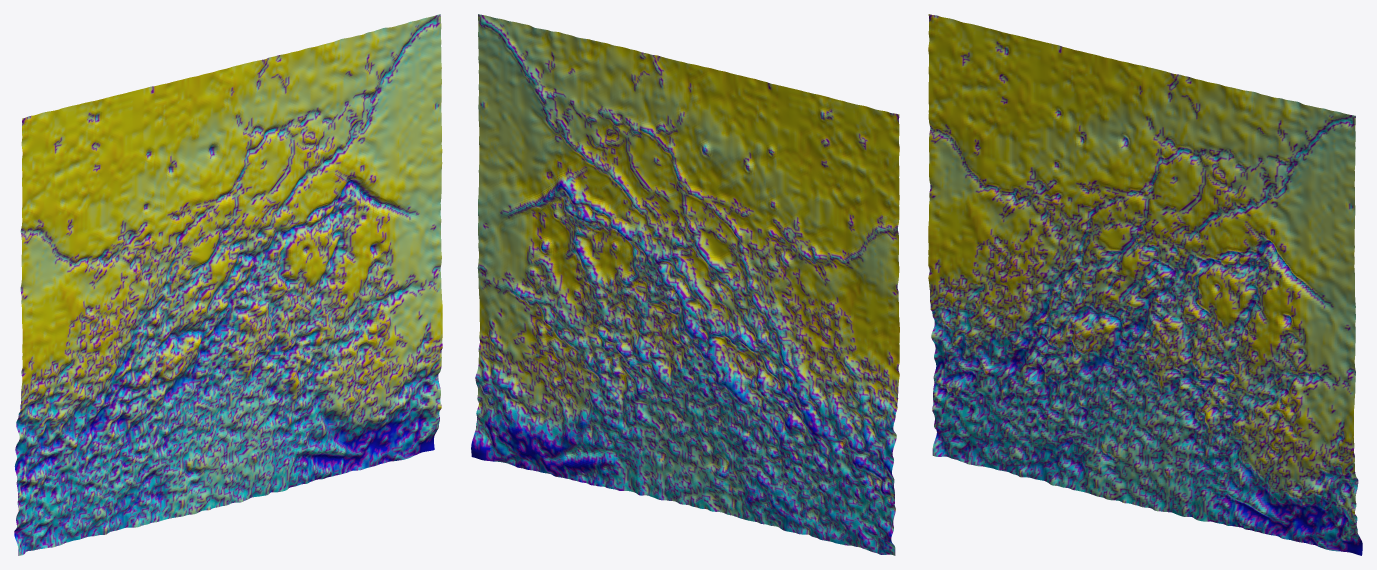
The picture shows the model from 3 angles, left to right: view 1: azimuth 30°, elevation 25°; view 2: azimuth 150°, elevation 25°; view 3: azimuth 330°, elevation 25°; orthographic projection.
Parts seen in each view (by area): view 1: world; view 2: world; view 3: world.
Part boxes in pixels (bbox=[...]): world: bbox=[14, 14, 442, 555]; world: bbox=[471, 14, 899, 555]; world: bbox=[928, 14, 1362, 555].
Bounding box in the file's own units: 299 × 299 × 12.
